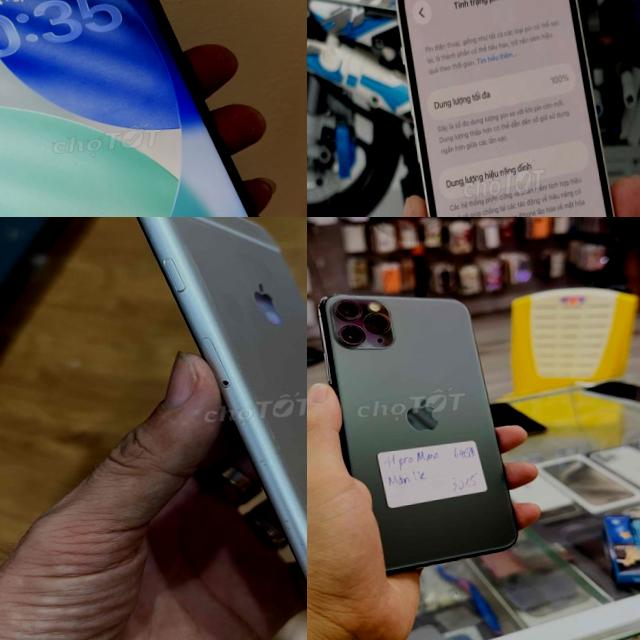gen_11: (318, 294, 516, 570)
gen_12_13: (0, 0, 256, 217), (389, 0, 640, 217)
gen_6: (123, 217, 307, 640)
scratch: (240, 392, 298, 470), (284, 514, 307, 590)
